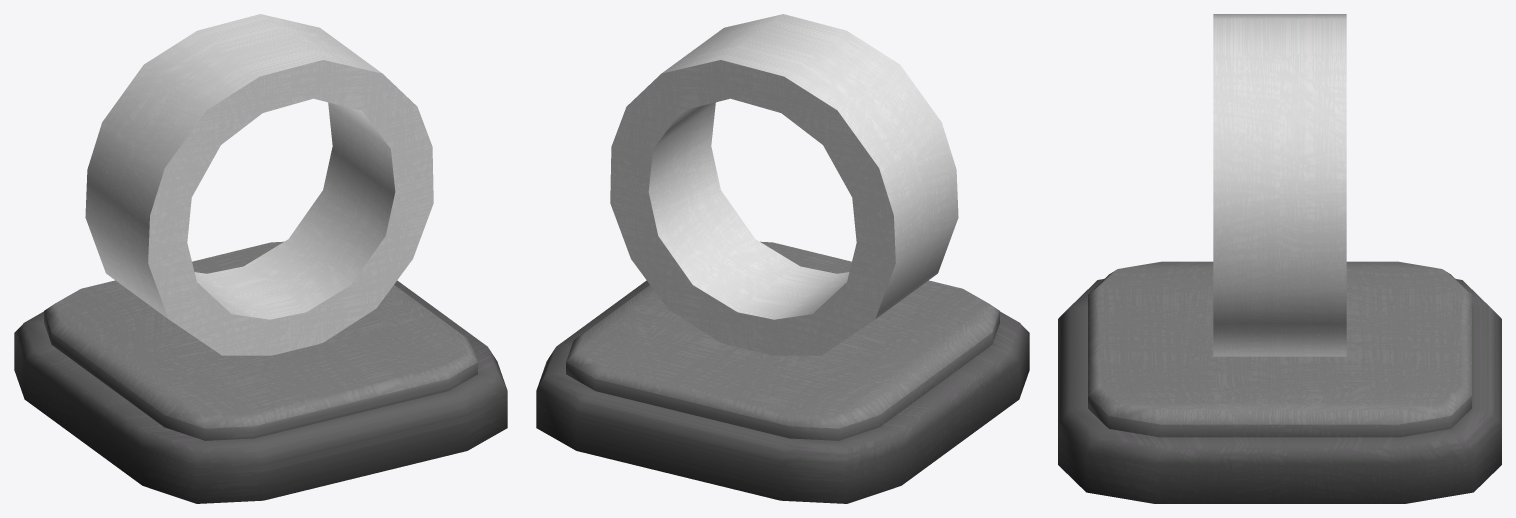
The model's file is Statue Letter O Hand.fbx.
The picture shows the model from 3 angles, left to right: view 1: azimuth 30°, elevation 25°; view 2: azimuth 150°, elevation 25°; view 3: azimuth 270°, elevation 25°; orthographic projection. The views are drawn at different scales.
Parts seen in each view (by area): view 1: StatueBase (1), Letter; view 2: StatueBase (1), Letter; view 3: StatueBase (1), Letter.
Part boxes in pixels (x1,y1,x2,y2): StatueBase (1): [14, 241, 507, 503]; Letter: [85, 14, 433, 355]; StatueBase (1): [536, 241, 1029, 503]; Letter: [610, 14, 958, 355]; StatueBase (1): [1058, 261, 1501, 503]; Letter: [1213, 14, 1346, 356].
Size of the model in its own units: 0.9118 by 0.8712 by 0.9299.
